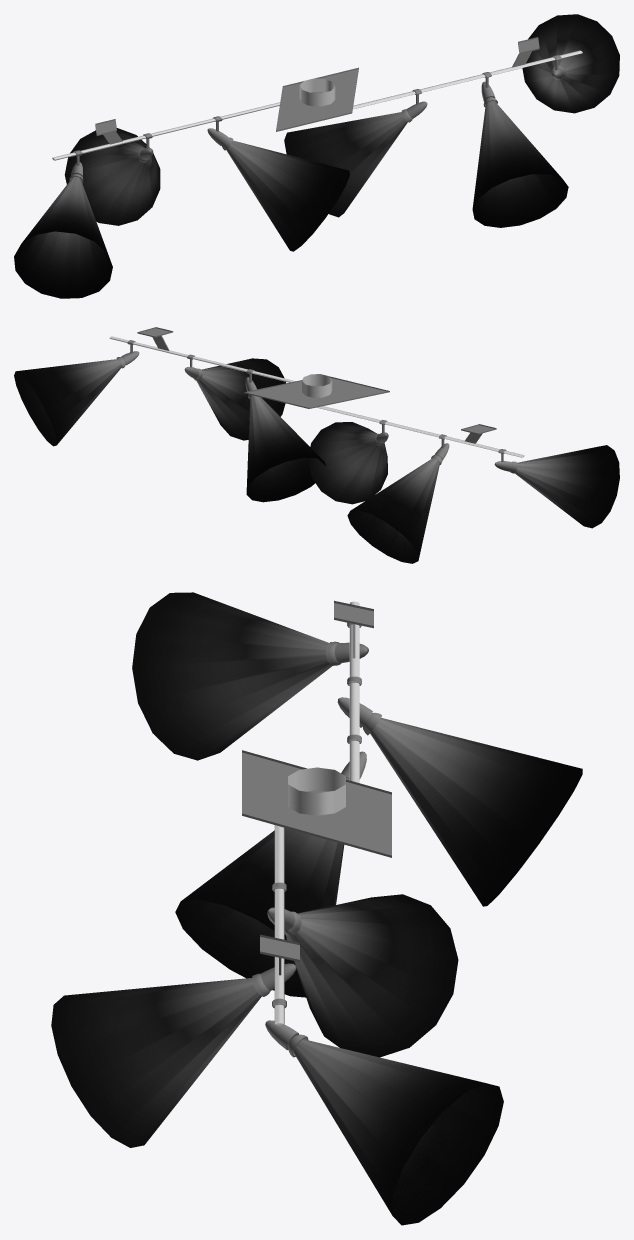
Rendered from CeilingLamp05.fbx.
3 views of the same model, one above another, from view 1: azimuth 30°, elevation 25°; view 2: azimuth 150°, elevation 25°; view 3: azimuth 270°, elevation 25° (orthographic). The views are drawn at different scales.
Visible parts, largest first — view 1: LightBeam1, LightBeam6, LightBeam5, LightBeam3, LightBeam2, LightBeam4, Metal01, polySurface32, LightBeam7, LightBeam10; view 2: LightBeam1, LightBeam2, LightBeam6, LightBeam4, LightBeam3, LightBeam5, polySurface32, Metal01, LightBeam8, LightBeam11; view 3: LightBeam1, LightBeam5, LightBeam6, LightBeam4, LightBeam2, LightBeam3, polySurface32, Metal01, LightBeam9.
Part boxes in pixels (box(x1,y1,x2,y2)): LightBeam1: box(14, 176, 112, 298); LightBeam6: box(522, 14, 619, 113); LightBeam5: box(472, 101, 568, 227); LightBeam3: box(226, 140, 349, 251); LightBeam2: box(64, 128, 160, 225); LightBeam4: box(284, 112, 407, 217); Metal01: box(52, 50, 582, 160); polySurface32: box(276, 67, 358, 131); LightBeam7: box(15, 232, 112, 297); LightBeam10: box(473, 174, 568, 225); LightBeam1: box(514, 445, 619, 528); LightBeam2: box(347, 458, 439, 563); LightBeam6: box(14, 359, 122, 446); LightBeam4: box(246, 395, 325, 502); LightBeam3: box(307, 422, 387, 504); LightBeam5: box(196, 358, 285, 440); polySurface32: box(244, 376, 389, 408); Metal01: box(109, 336, 524, 457); LightBeam8: box(348, 510, 418, 563); LightBeam11: box(247, 458, 325, 501); LightBeam1: box(132, 592, 331, 760); LightBeam5: box(51, 978, 261, 1147); LightBeam6: box(293, 1039, 503, 1225); LightBeam4: box(286, 894, 458, 1057); LightBeam2: box(370, 718, 582, 906); LightBeam3: box(175, 828, 344, 997); polySurface32: box(242, 750, 391, 857); Metal01: box(274, 601, 359, 1025); LightBeam9: box(393, 1083, 503, 1224).
Size of the model in its own units: 2.58 by 0.5386 by 1.06.
